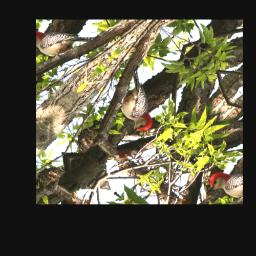Woodpecker: (94, 66, 181, 143)
